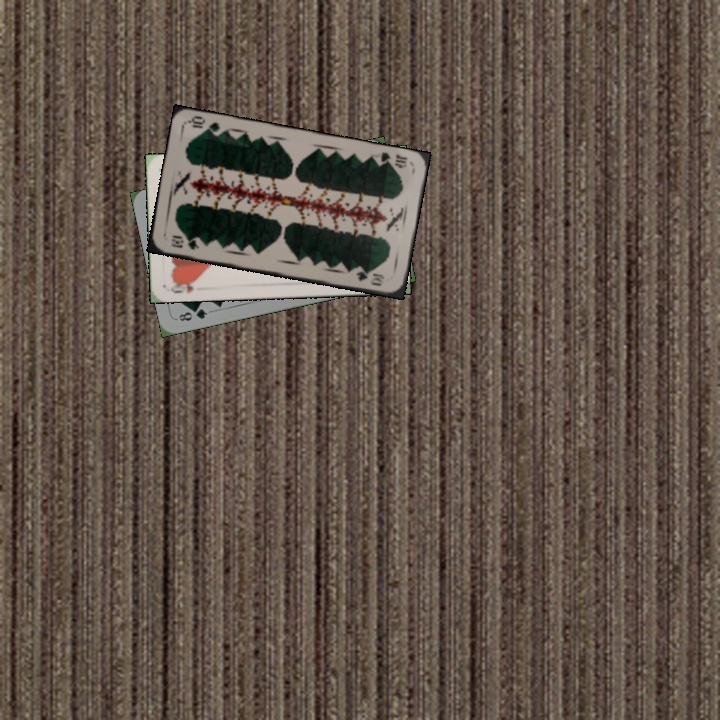G10: (371, 148, 410, 171), (167, 231, 202, 252)
G8: (173, 304, 210, 324)
HO: (167, 277, 200, 296)
